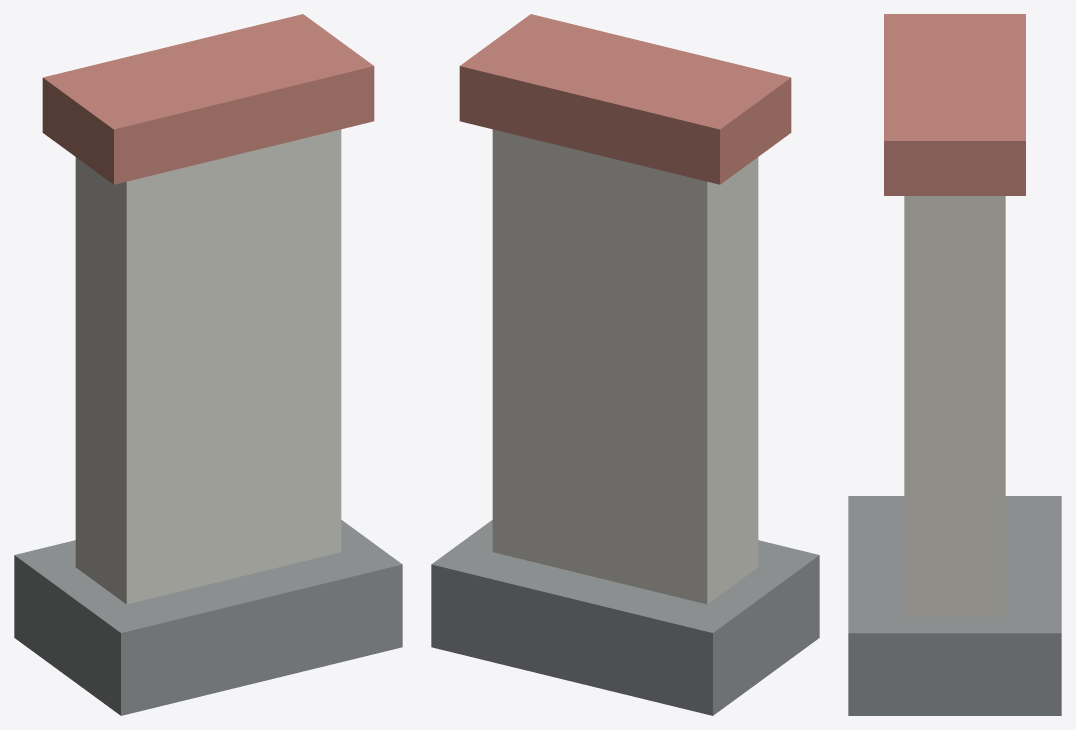
File: temple_stela.glb
3 renders of one model, left to right at view 1: azimuth 30°, elevation 25°; view 2: azimuth 150°, elevation 25°; view 3: azimuth 270°, elevation 25°, orthographic.
Visible parts, largest first — view 1: stone_light, stone_dark, roof_red; view 2: stone_light, stone_dark, roof_red; view 3: stone_light, stone_dark, roof_red.
Part boxes in pixels (x1,y1,x2,y2): stone_light: (75, 129, 341, 604); stone_dark: (14, 520, 402, 715); roof_red: (42, 14, 374, 184); stone_light: (492, 129, 758, 604); stone_dark: (431, 520, 819, 715); roof_red: (459, 14, 791, 184); stone_light: (904, 196, 1005, 616); stone_dark: (848, 496, 1061, 715); roof_red: (884, 14, 1025, 195).
Size of the model in its own units: 1.6 by 3.1 by 1.05.
